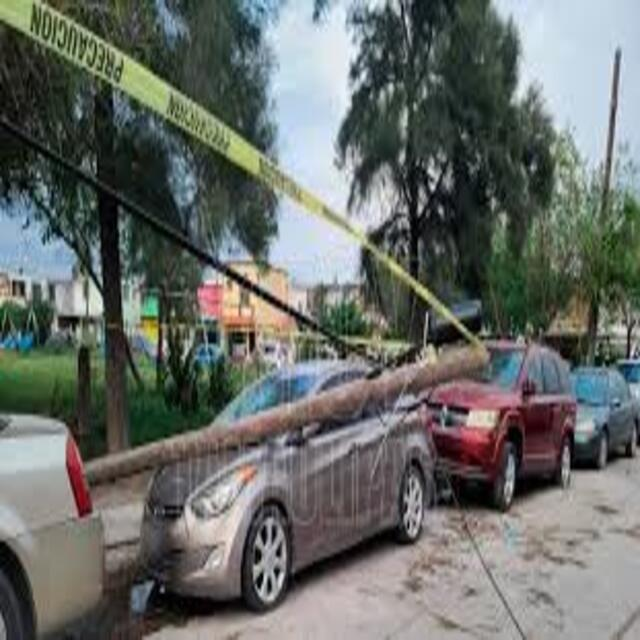Inclined Pole: (82, 329, 501, 493)
